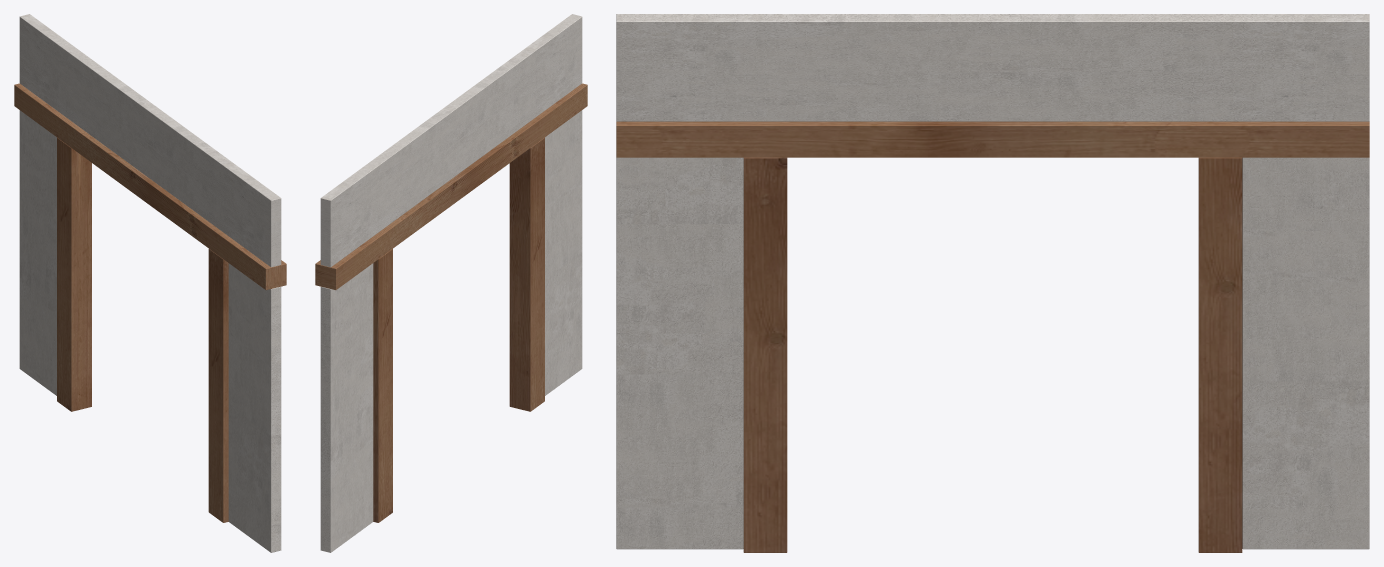
Rendered from SM_JSH_WallA.fbx.
The picture shows the model from 3 angles, left to right: view 1: azimuth 30°, elevation 25°; view 2: azimuth 150°, elevation 25°; view 3: azimuth 270°, elevation 25°; orthographic projection. The views are drawn at different scales.
Visible parts, largest first — view 1: SM_JSH_WallA; view 2: SM_JSH_WallA; view 3: SM_JSH_WallA.
Part boxes in pixels (x1,y1,x2,y2): SM_JSH_WallA: (14, 14, 286, 552); SM_JSH_WallA: (315, 14, 587, 552); SM_JSH_WallA: (616, 14, 1369, 552).
Size of the model in its own units: 11.78 by 245 by 189.
1 material, 1 textured.
